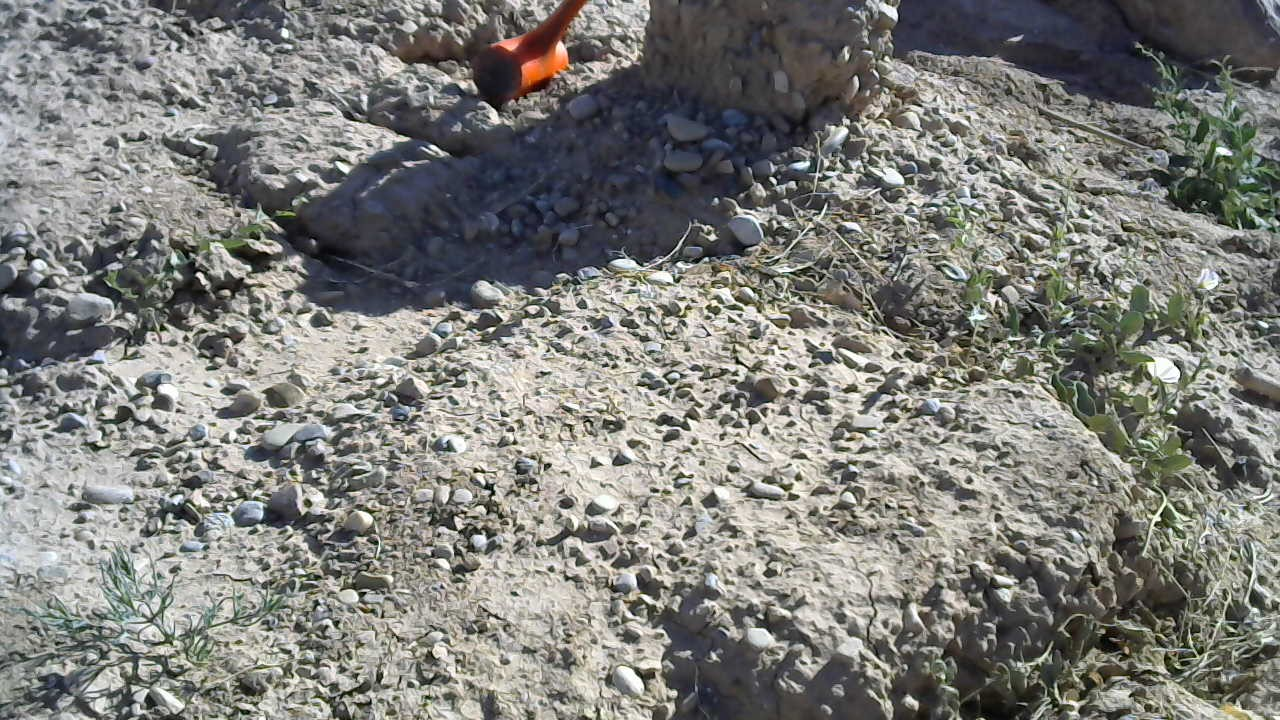hammer: (471, 0, 598, 105)
